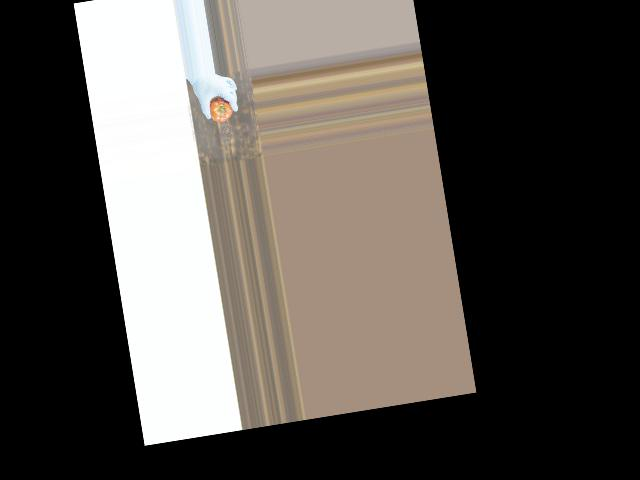tomato: (207, 95, 234, 124)
